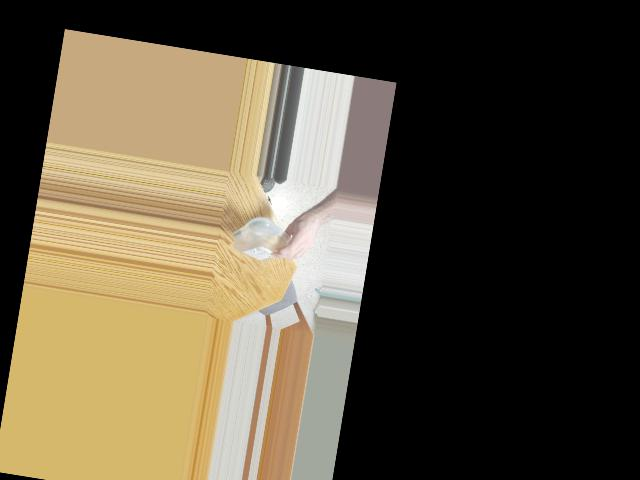cheese: (233, 219, 302, 264)
